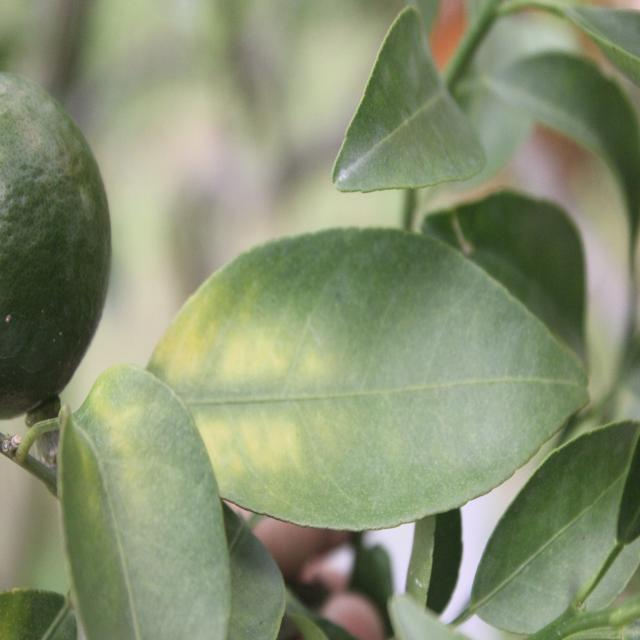greening: (166, 246, 552, 514)
